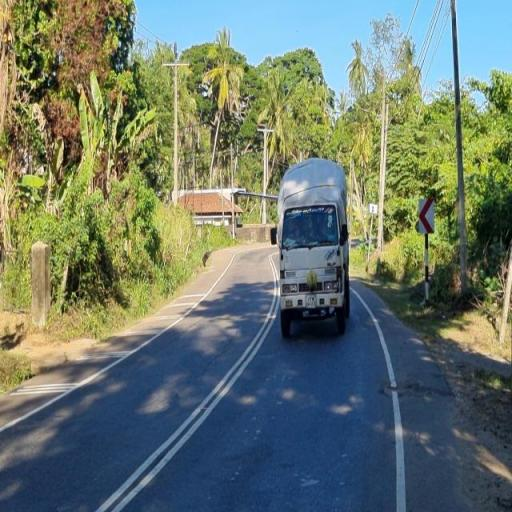double_white_line: (99, 254, 278, 512)
